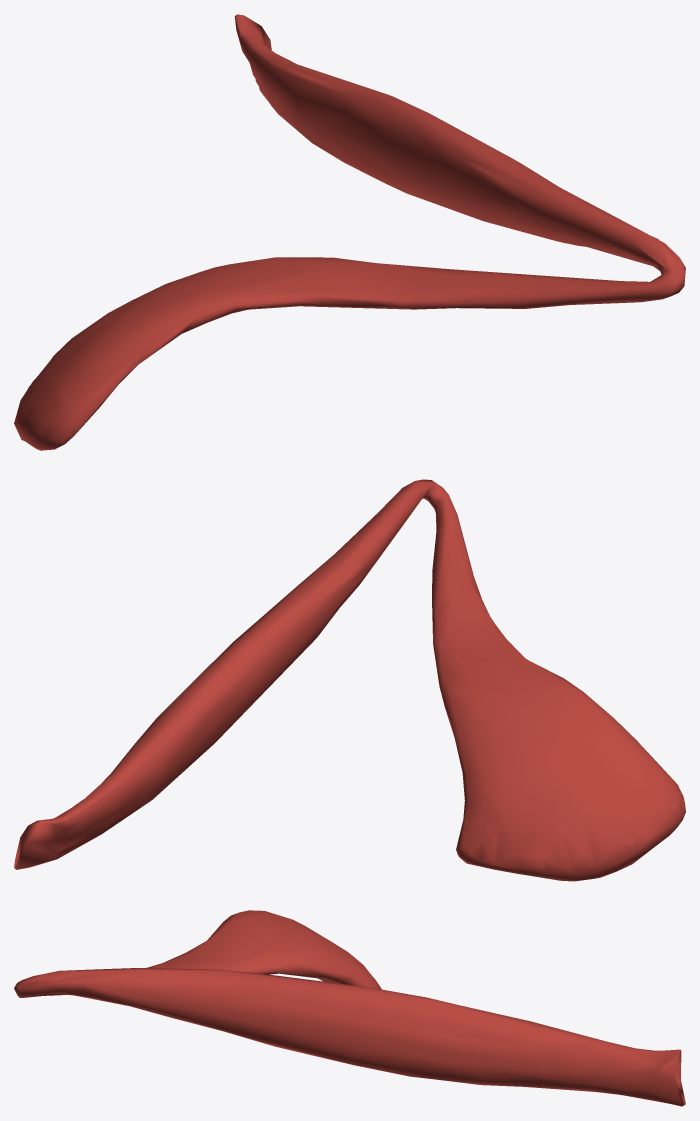
The model's file is musculos-superior-oblique-muscle-r.glb.
3 views of the same model, one above another, from view 1: azimuth 30°, elevation 25°; view 2: azimuth 150°, elevation 25°; view 3: azimuth 270°, elevation 25° (orthographic). The views are drawn at different scales.
Parts seen in each view (by area): view 1: Superior oblique muscle.r; view 2: Superior oblique muscle.r; view 3: Superior oblique muscle.r.
Boxes of the visible parts, x1=… form: Superior oblique muscle.r: x1=14, y1=14, x2=685, y2=450; Superior oblique muscle.r: x1=14, y1=479, x2=685, y2=881; Superior oblique muscle.r: x1=14, y1=910, x2=685, y2=1106.
Size of the model in its own units: 0.0279 by 0.0119 by 0.0433.
